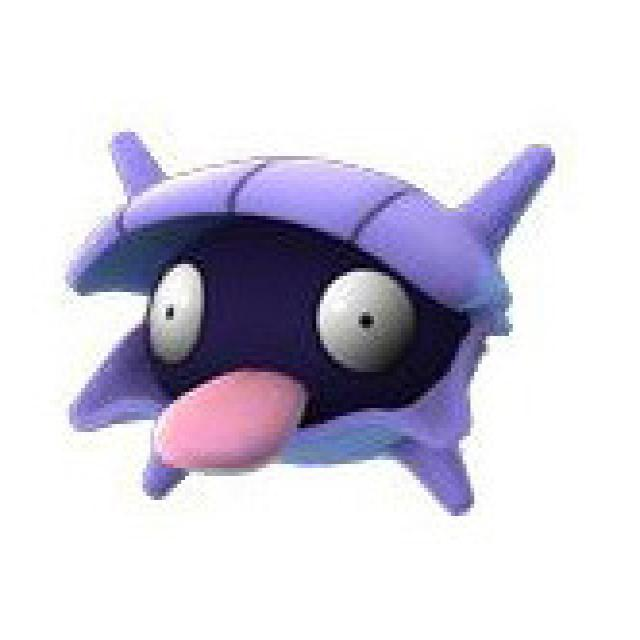Shellder: (89, 137, 549, 520)
